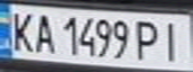1: (57, 12, 81, 56)
4: (75, 14, 96, 57)
9: (109, 16, 136, 61), (93, 15, 115, 58)
A: (30, 10, 57, 54)
I: (157, 18, 187, 63)
K: (3, 8, 36, 53)
P: (133, 17, 163, 62)
